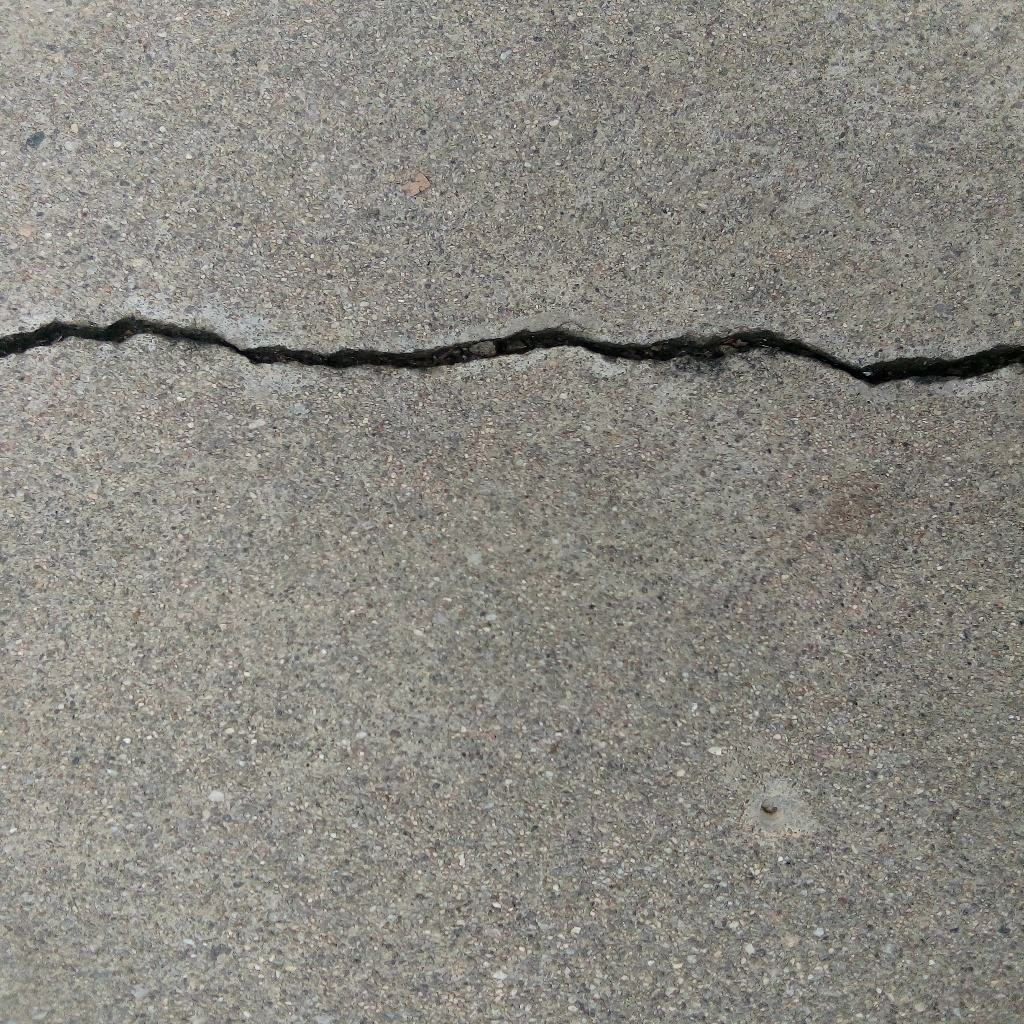Crack: (1, 313, 1024, 391)
